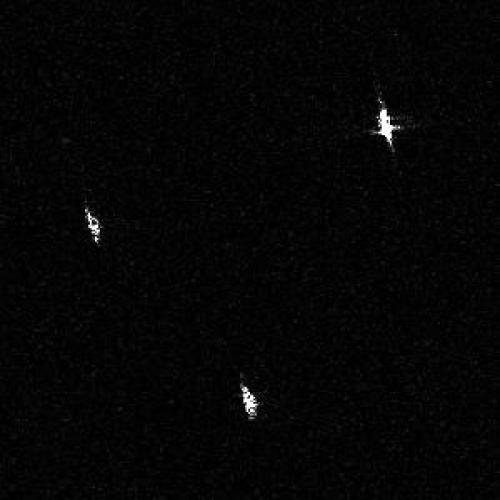ship: (376, 97, 396, 149), (83, 205, 104, 247), (238, 381, 260, 421)
